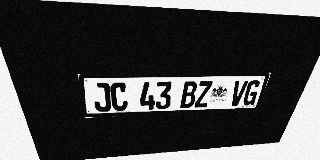3: (155, 82, 172, 109)
4: (140, 82, 156, 110)
B: (180, 81, 198, 108)
C: (110, 82, 128, 111)
G: (241, 80, 262, 106)
J: (92, 83, 112, 112)
V: (229, 80, 249, 106)
Z: (194, 81, 213, 108)
